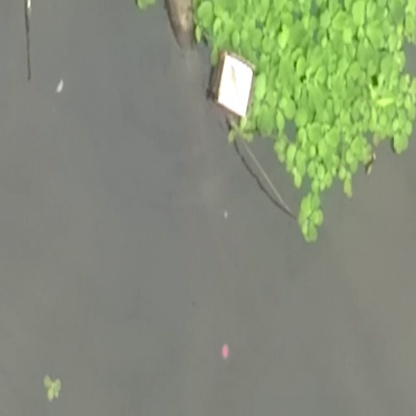grass: (263, 61, 414, 225)
